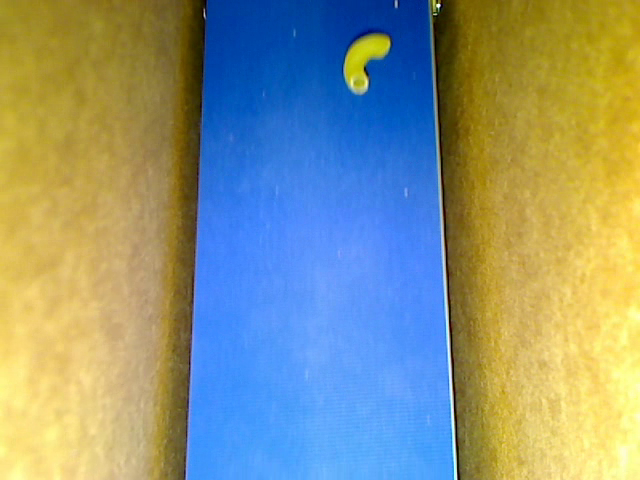elbow: (344, 33, 390, 94)
